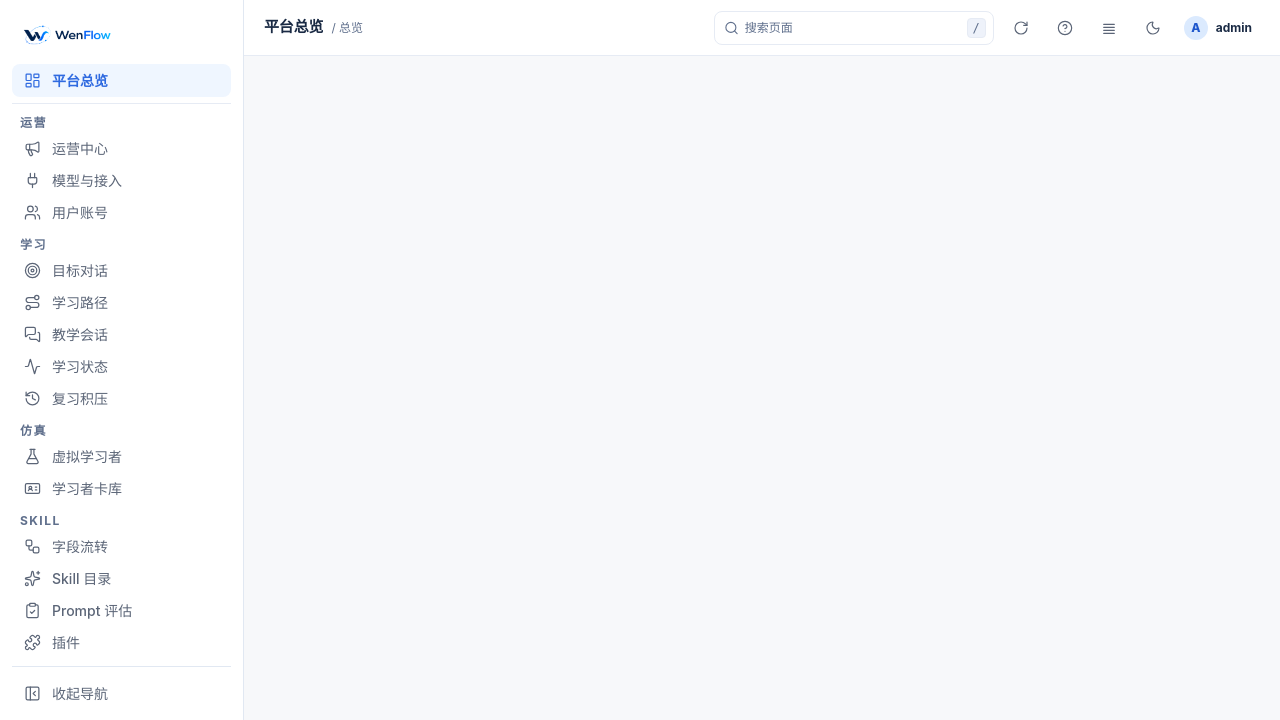
Test case: 顶栏搜索 · 转搜出口 › 搜人名（无页面命中）→ 空态 + 三条转搜出口
Type "孙浩" into the dropdown with class "mshell__search-input" at (854, 28), box x1=714 y1=10 x2=994 y2=44
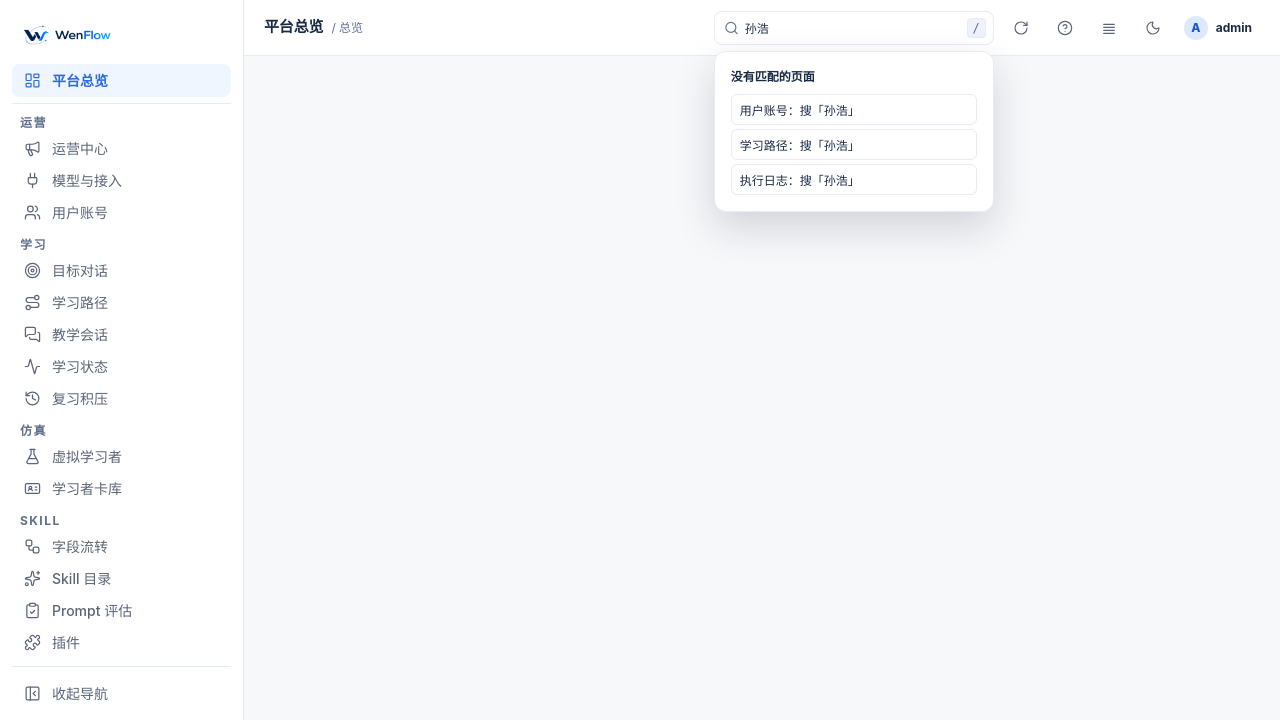
Result: the text "没有匹配的页面" is shown at x1=731 y1=68 x2=815 y2=84
Result: the number of buttons with class "mshell__search-fallback" is 3 at x1=731 y1=94 x2=977 y2=124; x1=731 y1=128 x2=977 y2=160; x1=731 y1=164 x2=977 y2=194
Result: the elements with class "mshell__search-fallback" read "用户账号：搜「孙浩」", "学习路径：搜「孙浩」", "执行日志：搜「孙浩」", in this order at x1=731 y1=94 x2=977 y2=124; x1=731 y1=128 x2=977 y2=160; x1=731 y1=164 x2=977 y2=194
